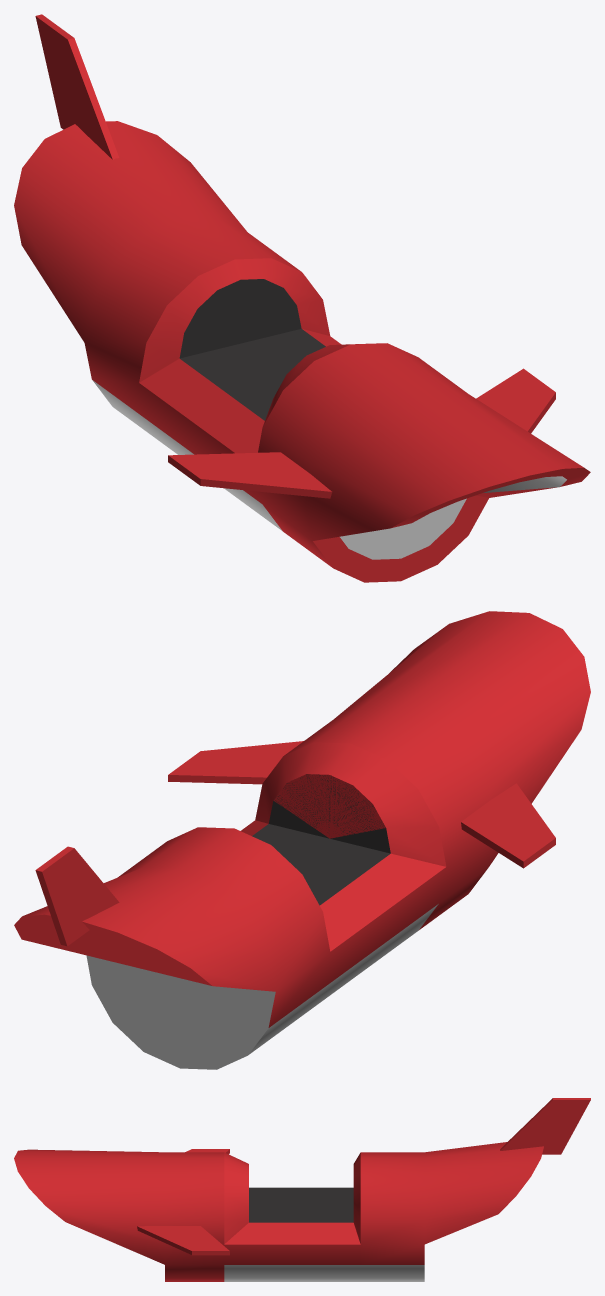
Rendered from ProtoBike.fbx.
3 views of the same model, one above another, from view 1: azimuth 30°, elevation 25°; view 2: azimuth 150°, elevation 25°; view 3: azimuth 270°, elevation 25° (orthographic). The views are drawn at different scales.
Parts seen in each view (by area): view 1: ProtoBike, WingLeft, Rudder, WingLeft.001; view 2: ProtoBike, Rudder, WingLeft, WingLeft.001; view 3: ProtoBike, Rudder, WingLeft.001.
Part boxes in pixels (<box>): ProtoBike: <box>14,121,590,582</box>; WingLeft: <box>168,452,332,498</box>; Rudder: <box>35,14,119,159</box>; WingLeft.001: <box>476,368,555,433</box>; ProtoBike: <box>14,611,590,1069</box>; Rudder: <box>35,846,119,946</box>; WingLeft: <box>461,783,555,868</box>; WingLeft.001: <box>168,741,303,784</box>; ProtoBike: <box>14,1142,543,1281</box>; Rudder: <box>500,1098,590,1154</box>; WingLeft.001: <box>137,1226,229,1255</box>.
Bounding box in the file's own units: 186 × 150 × 445.
